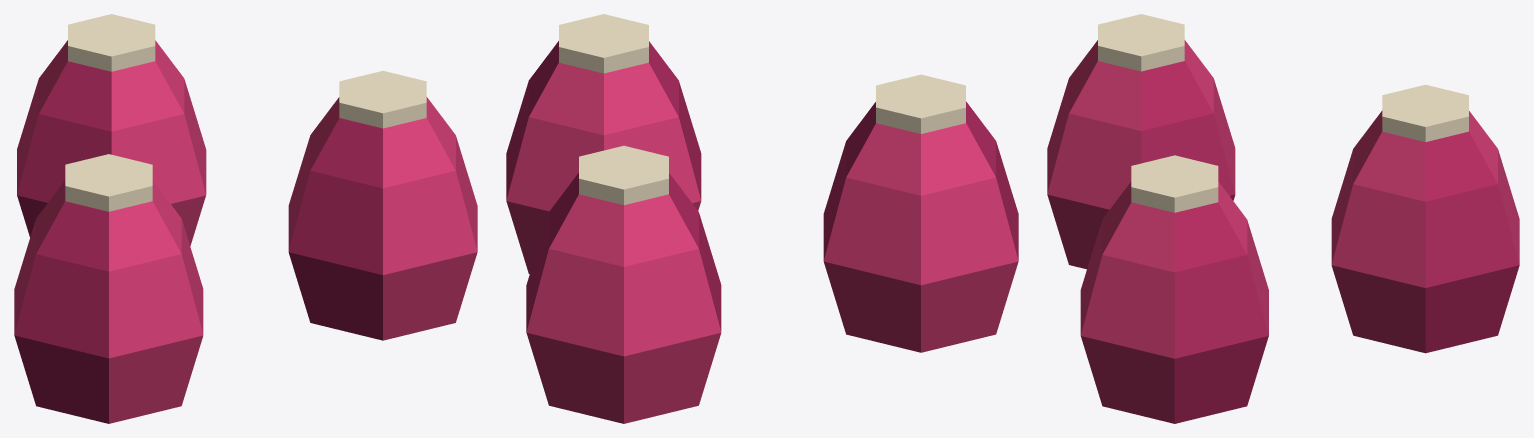
Rendered from cactus-crop.glb.
3 renders of one model, left to right at view 1: azimuth 30°, elevation 25°; view 2: azimuth 150°, elevation 25°; view 3: azimuth 270°, elevation 25°, orthographic. The views are drawn at different scales.
Visible parts, largest first — view 1: cactus-crop; view 2: cactus-crop; view 3: cactus-crop.
Part boxes in pixels (x1,y1,x2,y2): cactus-crop: (14,14,477,423); cactus-crop: (506,14,1018,423); cactus-crop: (1047,14,1519,423).
Bounding box in the file's own units: 0.33 × 0.16 × 0.2826.
Materials: 1 (1 with a texture image).
